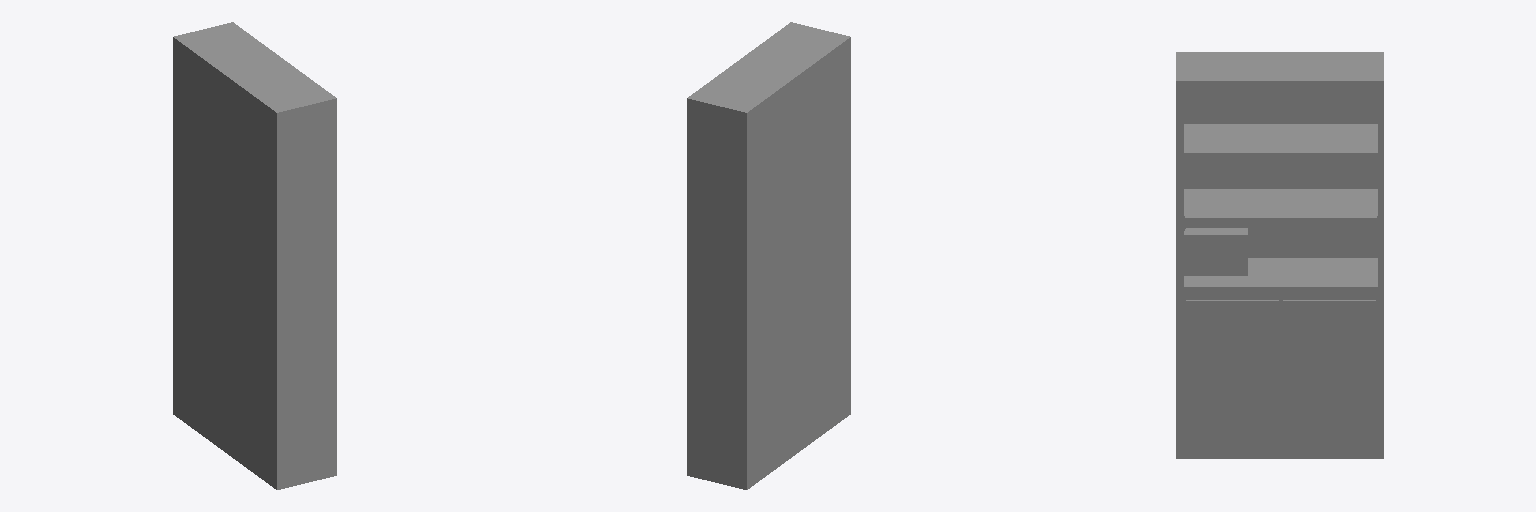
Rendered from Stack_Bottom.obj.
3 views of the same model, side by side, from view 1: azimuth 30°, elevation 25°; view 2: azimuth 150°, elevation 25°; view 3: azimuth 270°, elevation 25° (orthographic).
Visible parts, largest first — view 1: Shelf_Body_Cube.001; view 2: Shelf_Body_Cube.001; view 3: Shelf_Body_Cube.001, Stack_Bottom_Cube.003.
Part boxes in pixels (x1,y1,x2,y2): Shelf_Body_Cube.001: (173, 22, 336, 489); Shelf_Body_Cube.001: (687, 22, 850, 489); Shelf_Body_Cube.001: (1176, 52, 1383, 458); Stack_Bottom_Cube.003: (1184, 228, 1247, 275).
Size of the model in its own units: 62 by 360 by 180.